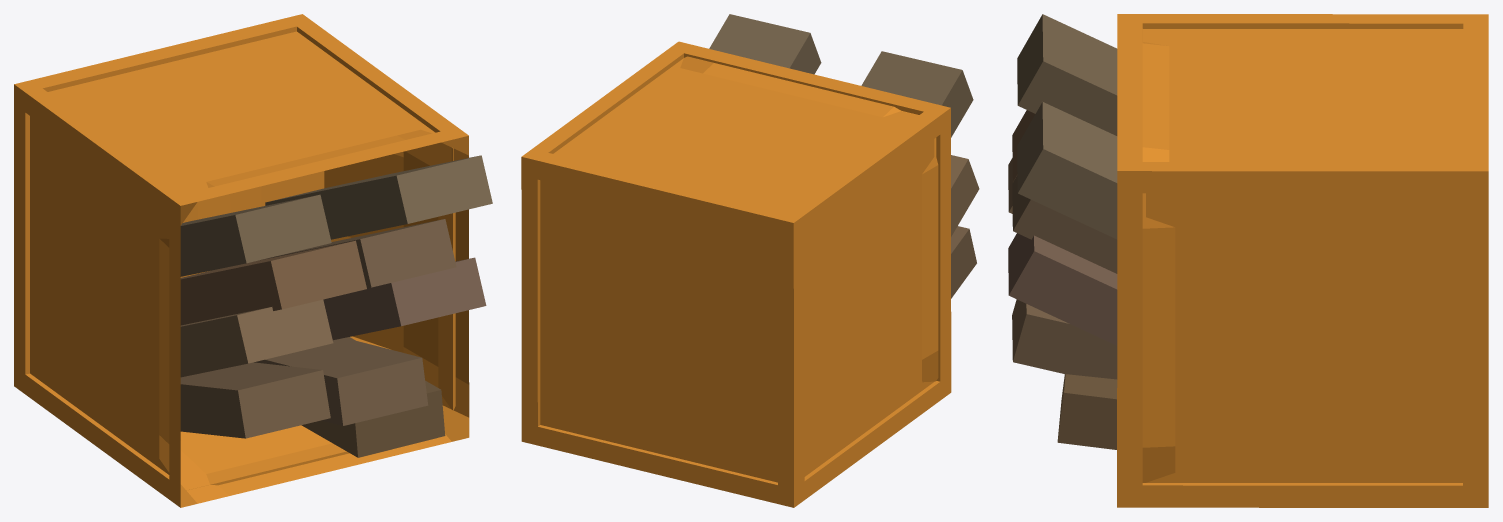
Rendered from holzplanke.gltf.
3 renders of one model, left to right at view 1: azimuth 30°, elevation 25°; view 2: azimuth 150°, elevation 25°; view 3: azimuth 270°, elevation 25°, orthographic. The views are drawn at different scales.
Parts seen in each view (by area): view 1: Crate, Cube.006, Cube.002, Cube, Cube.007, Cube.001, Cube.005, Cube.004, Cube.003, Cube.008; view 2: Crate, Cube.001, Cube, Cube.005, Cube.006; view 3: Crate, Cube, Cube.001, Cube.004, Cube.007, Cube.008, Cube.003, Cube.002.
Boxes of the visible parts, x1,y1,x2,y2 form: Crate: (14, 14, 469, 507); Cube.006: (180, 362, 330, 438); Cube.002: (180, 240, 366, 325); Cube: (265, 155, 492, 239); Cube.007: (254, 338, 428, 425); Cube.001: (180, 194, 331, 276); Cube.005: (180, 299, 333, 377); Cube.004: (323, 257, 486, 340); Cube.003: (260, 219, 456, 288); Cube.008: (301, 337, 445, 457); Crate: (521, 41, 951, 507); Cube.001: (861, 51, 973, 137); Cube: (709, 14, 821, 74); Cube.005: (951, 155, 979, 236); Cube.006: (951, 226, 976, 298); Crate: (1117, 14, 1488, 507); Cube: (1017, 102, 1117, 239); Cube.001: (1017, 14, 1117, 135); Cube.004: (1008, 233, 1117, 345); Cube.007: (1012, 299, 1117, 379); Cube.008: (1057, 374, 1117, 449); Cube.003: (1012, 175, 1117, 273); Cube.002: (1012, 110, 1035, 181).
Size of the model in its own units: 0.3001 by 0.3107 by 0.3882.
